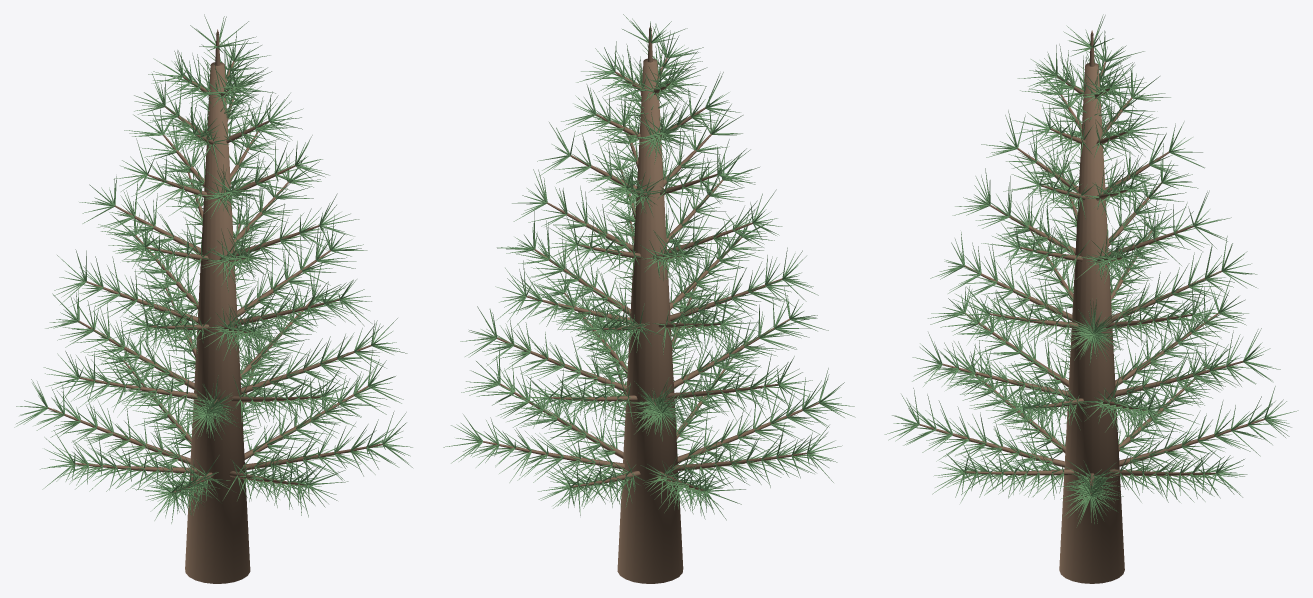
Rendered from pinus-blender-v1.glb.
3 views of the same model, side by side, from view 1: azimuth 30°, elevation 25°; view 2: azimuth 150°, elevation 25°; view 3: azimuth 270°, elevation 25° (orthographic).
Parts seen in each view (by area): view 1: pinus_needles, pinus_wood; view 2: pinus_needles, pinus_wood; view 3: pinus_needles, pinus_wood.
Part boxes in pixels (bbox=[...]): pinus_needles: bbox=[14, 14, 412, 523]; pinus_wood: bbox=[48, 29, 384, 583]; pinus_needles: bbox=[443, 14, 855, 520]; pinus_wood: bbox=[483, 26, 818, 583]; pinus_needles: bbox=[884, 14, 1298, 527]; pinus_wood: bbox=[919, 30, 1264, 583].
Size of the model in its own units: 2.08 by 3.06 by 2.09.
